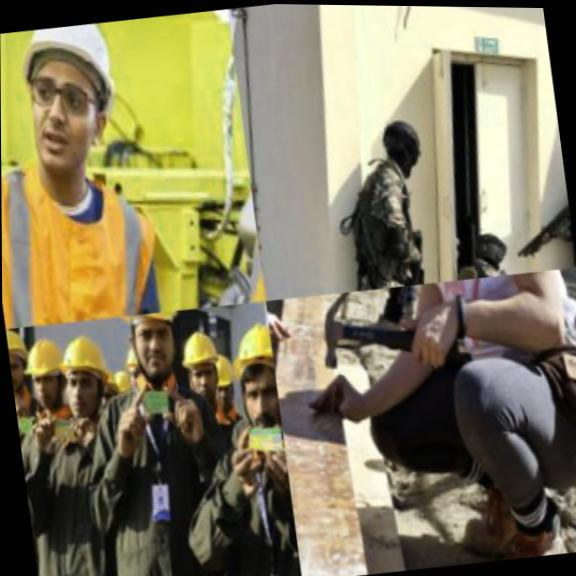safety_vest: (69, 359, 245, 576), (1, 130, 185, 330), (19, 406, 130, 576), (186, 418, 300, 576), (337, 157, 426, 286), (13, 383, 58, 576), (433, 236, 522, 282), (557, 156, 576, 266)
